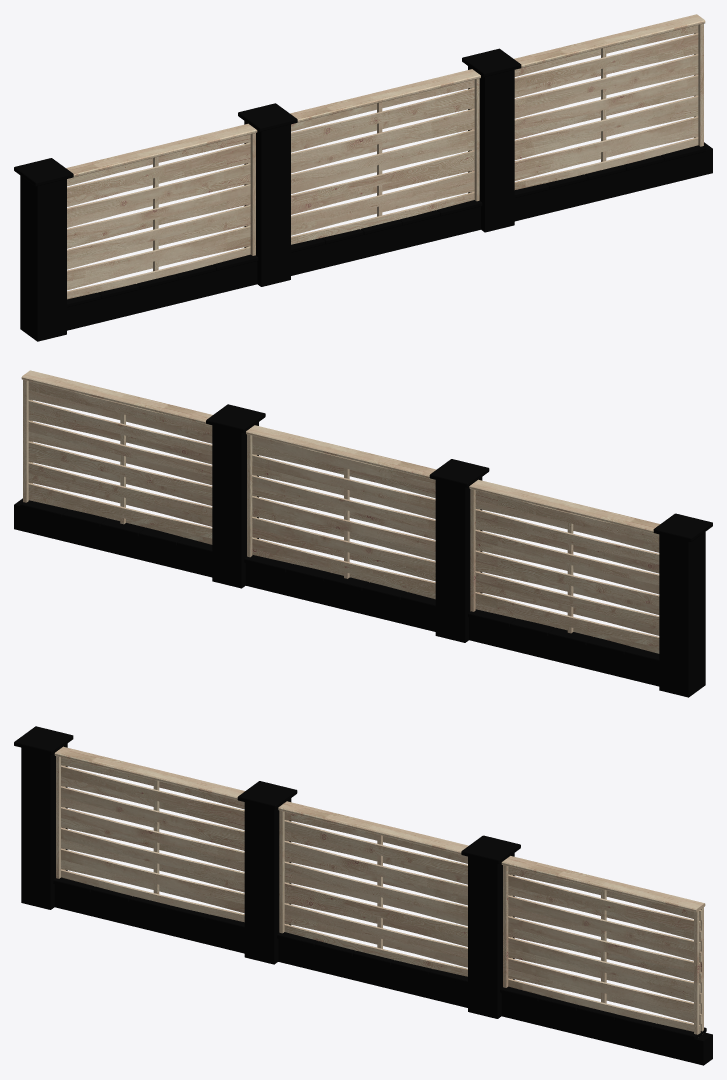
Rendered from OgrdaWood.fbx.
3 renders of one model, top to bottom at view 1: azimuth 30°, elevation 25°; view 2: azimuth 150°, elevation 25°; view 3: azimuth 330°, elevation 25°, orthographic.
Visible parts, largest first — view 1: Box03, Box05, Box09, Box02; view 2: Box03, Box05, Box09, Box02; view 3: Box03, Box05, Box09, Box02.
Boxes of the visible parts, x1=… form: Box03: x1=67, y1=23, x2=703, y2=299; Box05: x1=20, y1=66, x2=712, y2=341; Box09: x1=14, y1=48, x2=706, y2=307; Box02: x1=66, y1=14, x2=705, y2=177; Box03: x1=23, y1=380, x2=659, y2=653; Box05: x1=14, y1=422, x2=705, y2=697; Box09: x1=20, y1=404, x2=712, y2=663; Box02: x1=21, y1=370, x2=660, y2=534; Box03: x1=56, y1=756, x2=703, y2=1034; Box05: x1=21, y1=743, x2=712, y2=1065; Box09: x1=14, y1=726, x2=706, y2=1040; Box02: x1=54, y1=746, x2=705, y2=912.
Bounding box in the file's own units: 879 × 199 × 49.
3 materials, 1 textured.
